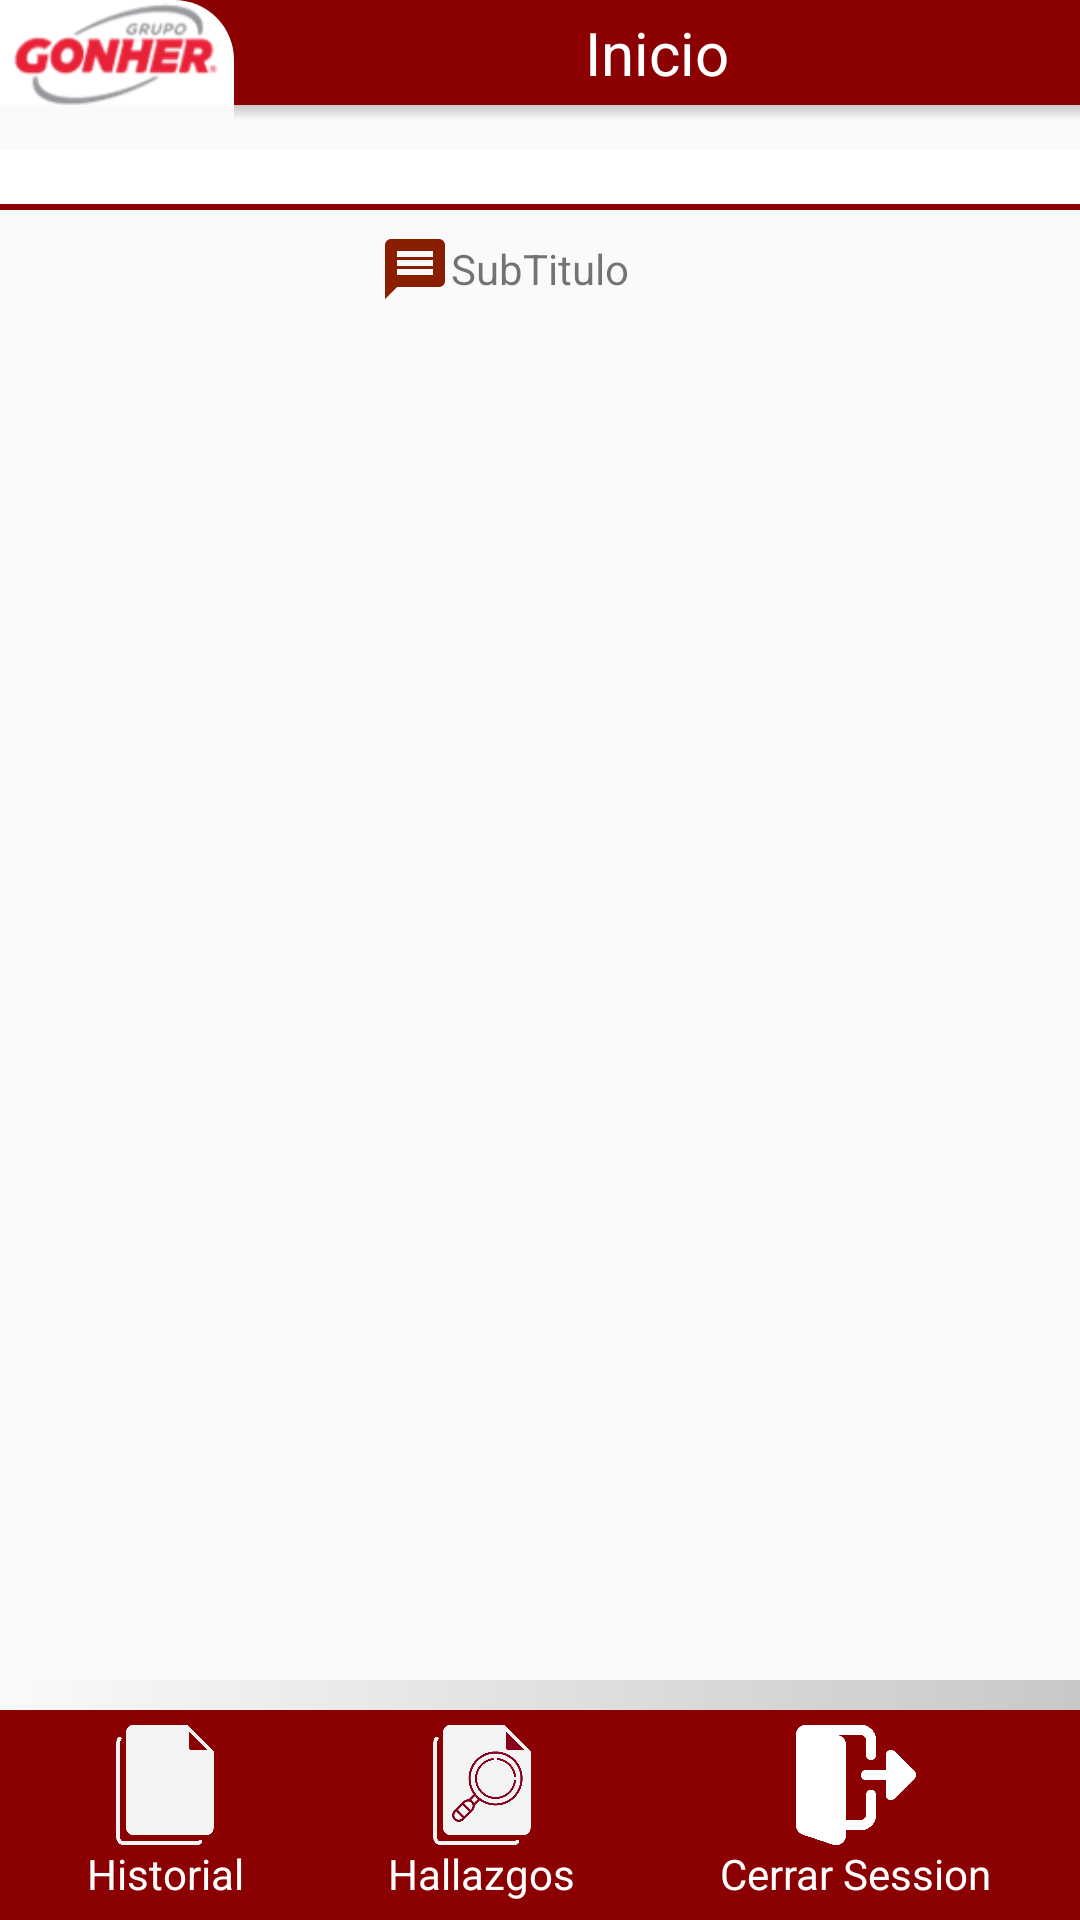

Where icons sit on this 1080 x 1920 app screen, as bbox(x1, y1, x2, y2):
message: bbox(385, 239, 445, 299)
